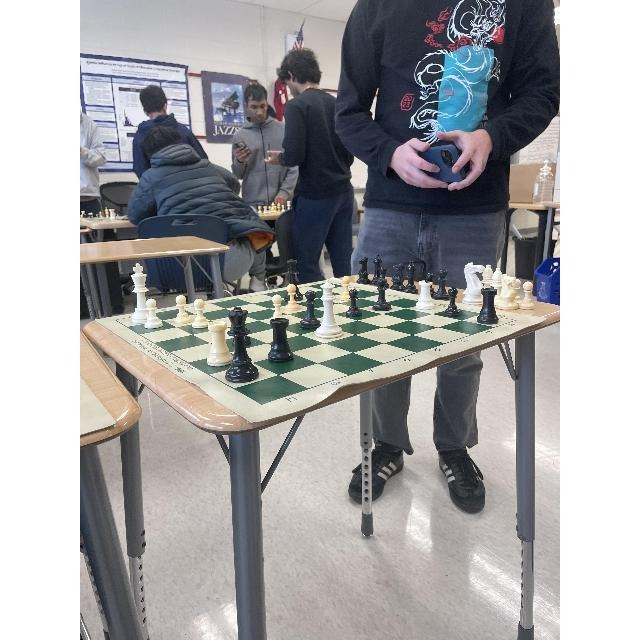black-pawn: (269, 315, 291, 363), (374, 268, 392, 308), (345, 278, 361, 320), (302, 285, 318, 326)
black-rook: (230, 306, 256, 383)
white-bishop: (128, 276, 159, 330), (318, 281, 341, 339)
